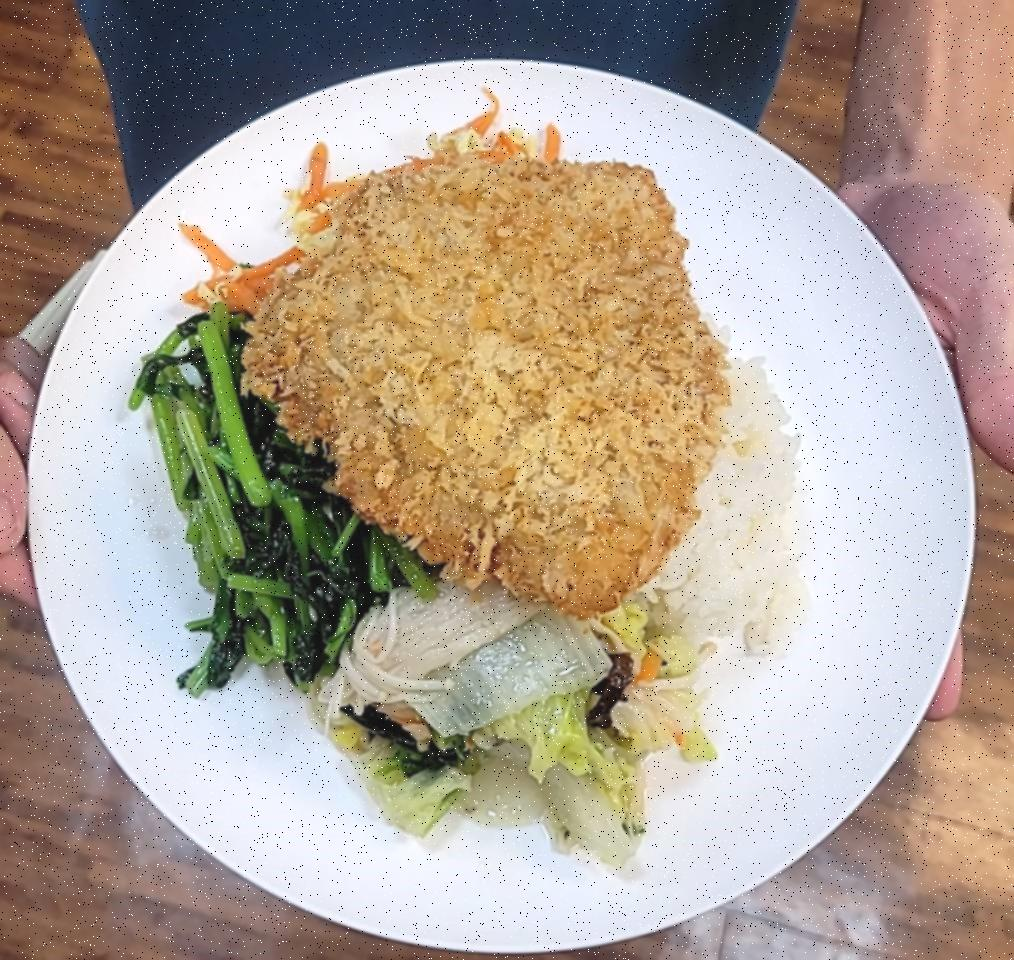fried pork chops: (242, 132, 726, 614)
plate: (32, 42, 992, 960)
side dish: (325, 558, 713, 840), (142, 322, 413, 665), (182, 99, 560, 318)
white rice: (572, 328, 810, 642)
